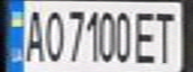0: (115, 7, 136, 64), (97, 7, 118, 63)
1: (81, 6, 100, 63)
7: (63, 6, 84, 63)
A: (21, 4, 48, 63)
E: (133, 7, 160, 65)
O: (42, 6, 66, 63)
T: (151, 7, 181, 65)
